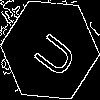U: (25, 25, 78, 81)
